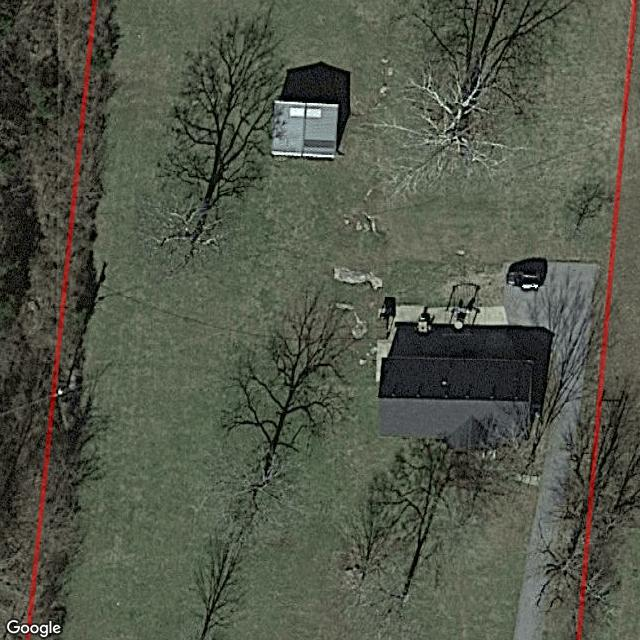Driveway: (504, 262, 596, 640)
House: (377, 323, 548, 433)
Other: (273, 102, 338, 157)
